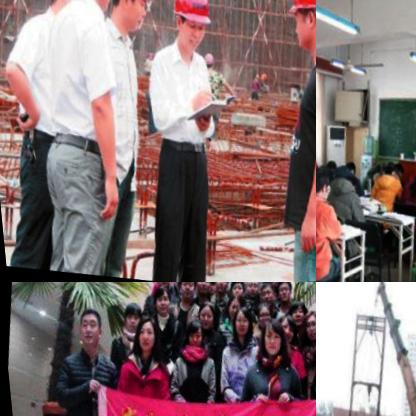head: (69, 305, 103, 354), (127, 312, 156, 356), (254, 317, 284, 359), (116, 301, 143, 339), (266, 313, 294, 349), (176, 313, 202, 350), (280, 295, 307, 328), (144, 286, 170, 318), (189, 299, 215, 331), (225, 304, 248, 338), (247, 300, 272, 331), (296, 307, 316, 341), (220, 293, 242, 321), (254, 282, 274, 307), (316, 165, 328, 199), (171, 282, 193, 300), (338, 172, 355, 195), (270, 282, 289, 302), (384, 158, 401, 180), (221, 282, 243, 299), (376, 158, 393, 177), (338, 158, 354, 177), (239, 282, 257, 298), (188, 282, 210, 295), (406, 161, 416, 185), (208, 282, 225, 295), (320, 158, 333, 173), (263, 282, 283, 290), (150, 282, 168, 290), (202, 282, 215, 293)
helmet: (157, 0, 221, 62), (93, 0, 167, 47), (271, 0, 316, 63)
